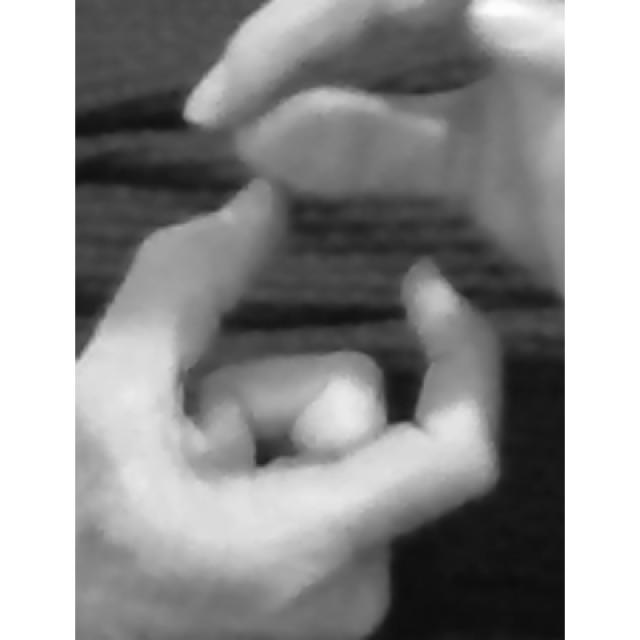U--: (73, 1, 563, 640)
